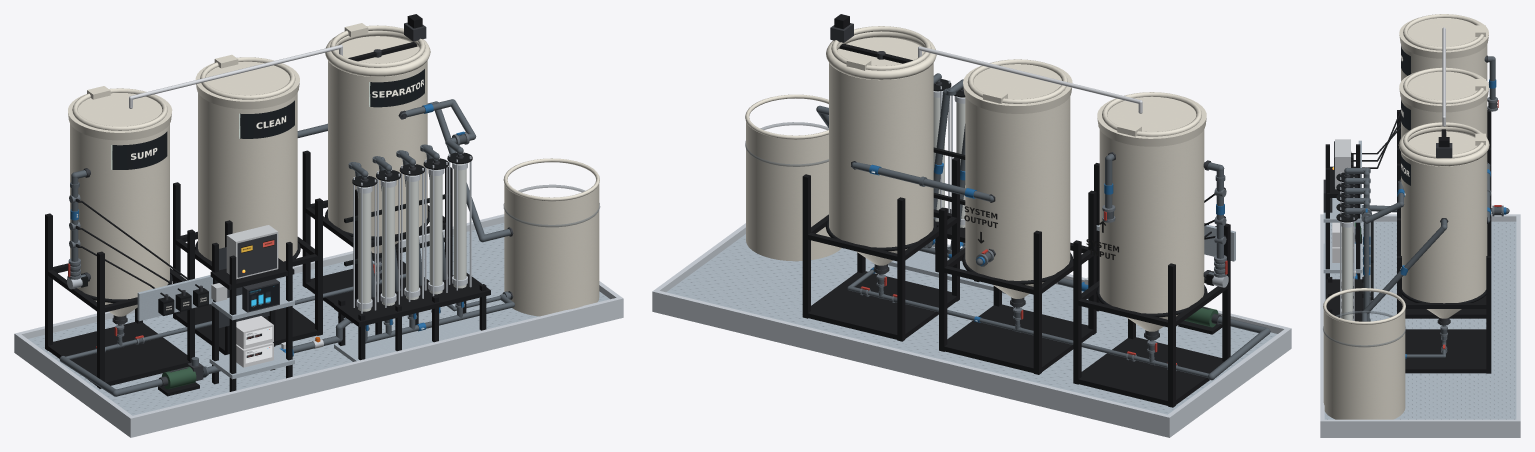
The model's file is OilTrap EP5 System 3D Asset NEW.glb.
The picture shows the model from 3 angles, left to right: view 1: azimuth 30°, elevation 25°; view 2: azimuth 150°, elevation 25°; view 3: azimuth 270°, elevation 25°; orthographic projection. The views are drawn at different scales.
Visible parts, largest first — view 1: EP5-SD; view 2: EP5-SD, object 56; view 3: EP5-SD, object 77, object 2.
Boxes of the visible parts, box(x1,y1,x2,y2) form: EP5-SD: box(14, 23, 623, 437); EP5-SD: box(652, 26, 1291, 437); object 56: box(927, 93, 949, 245); EP5-SD: box(1320, 14, 1520, 437); object 77: box(1363, 205, 1369, 321); object 2: box(1436, 143, 1452, 157).
Size of the model in its own units: 4.56 by 2.56 by 1.86.
243 materials, 16 textured.
